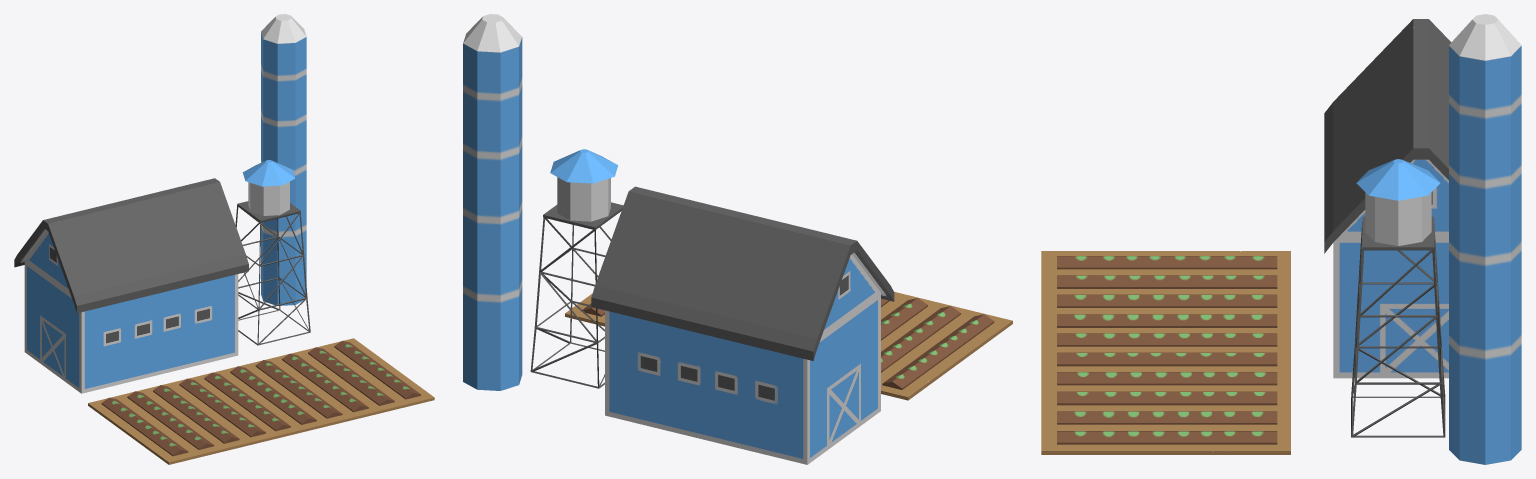
File: FarmA_noGround.fbx
3 renders of one model, left to right at view 1: azimuth 30°, elevation 25°; view 2: azimuth 150°, elevation 25°; view 3: azimuth 270°, elevation 25°, orthographic. The views are drawn at different scales.
Parts seen in each view (by area): view 1: Farm; view 2: Farm; view 3: Farm.
Part boxes in pixels (x1,y1,x2,y2): Farm: (14,14,434,464); Farm: (463,14,1012,464); Farm: (1041,14,1521,464).
Bounding box in the file's own units: 398 × 380 × 385.
